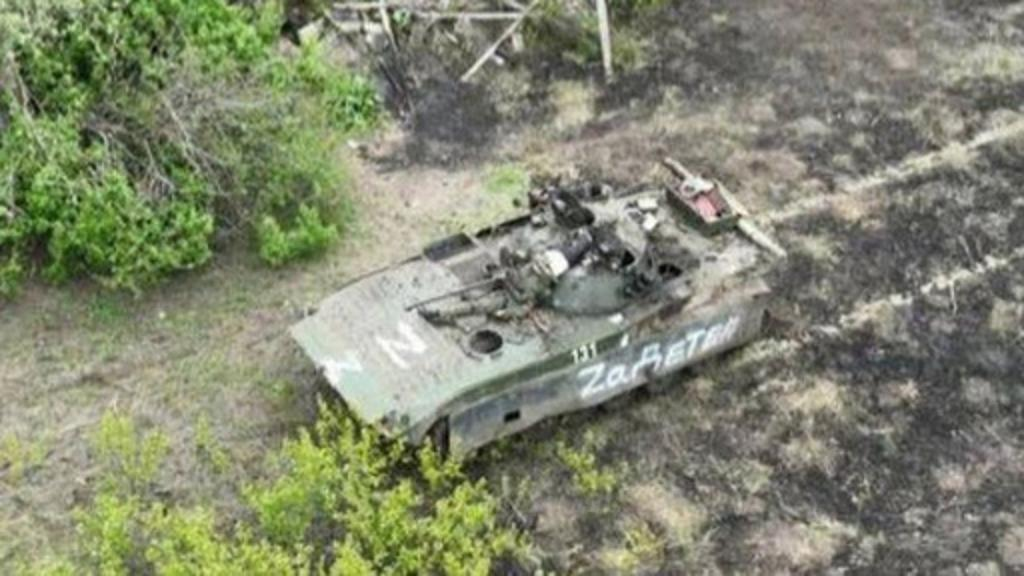APC-IFV: (282, 160, 778, 468)
